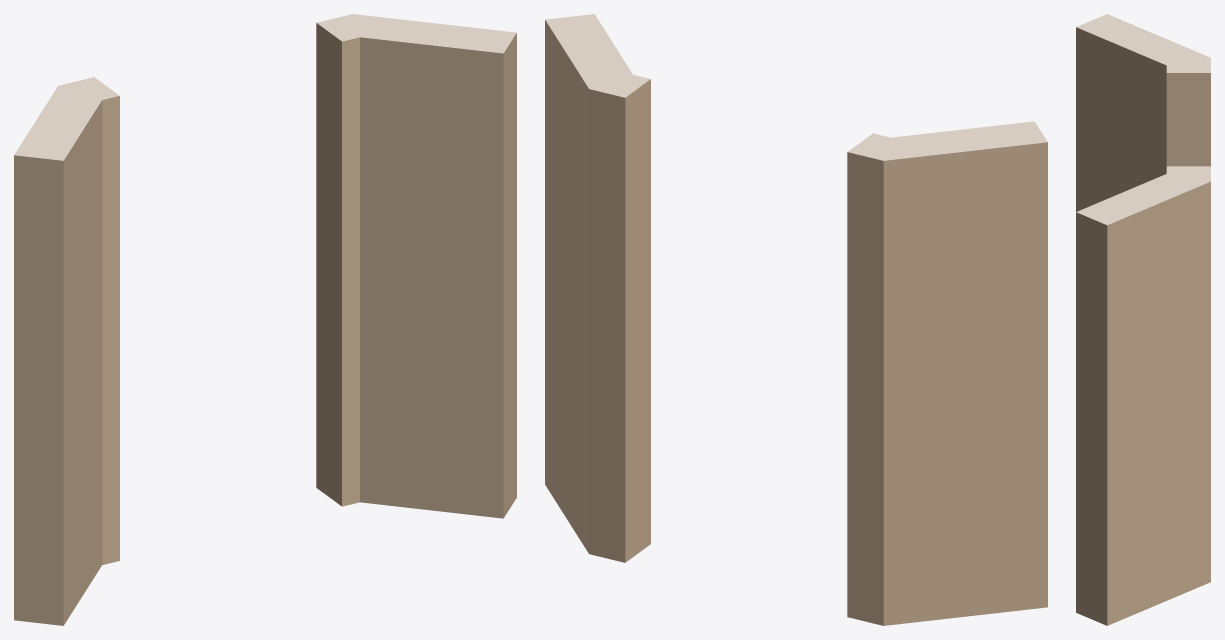
Rendered from Tower_Wall_Tall_Doorway.fbx.
The picture shows the model from 3 angles, left to right: view 1: azimuth 30°, elevation 25°; view 2: azimuth 150°, elevation 25°; view 3: azimuth 270°, elevation 25°; orthographic projection. The views are drawn at different scales.
Parts seen in each view (by area): view 1: Sandstone_Trim, Sandstone_Trim.object2, object1, Sandstone_Floor; view 2: Sandstone_Trim.object2, Sandstone_Trim, Sandstone_Floor, object1; view 3: Sandstone_Trim, Sandstone_Trim.object2, object1, Sandstone_Floor.
Boxes of the visible parts, bbox=[...] form: Sandstone_Trim: bbox=[316, 23, 516, 518]; Sandstone_Trim.object2: bbox=[14, 96, 119, 625]; object1: bbox=[316, 14, 516, 53]; Sandstone_Floor: bbox=[14, 77, 119, 160]; Sandstone_Trim.object2: bbox=[847, 142, 1047, 625]; Sandstone_Trim: bbox=[545, 20, 650, 562]; Sandstone_Floor: bbox=[848, 121, 1047, 160]; object1: bbox=[545, 14, 650, 97]; Sandstone_Trim: bbox=[1076, 181, 1210, 625]; Sandstone_Trim.object2: bbox=[1076, 27, 1210, 211]; object1: bbox=[1076, 166, 1210, 225]; Sandstone_Floor: bbox=[1076, 14, 1210, 72].
Bounding box in the file's own units: 2.26 × 2 × 0.6101.
